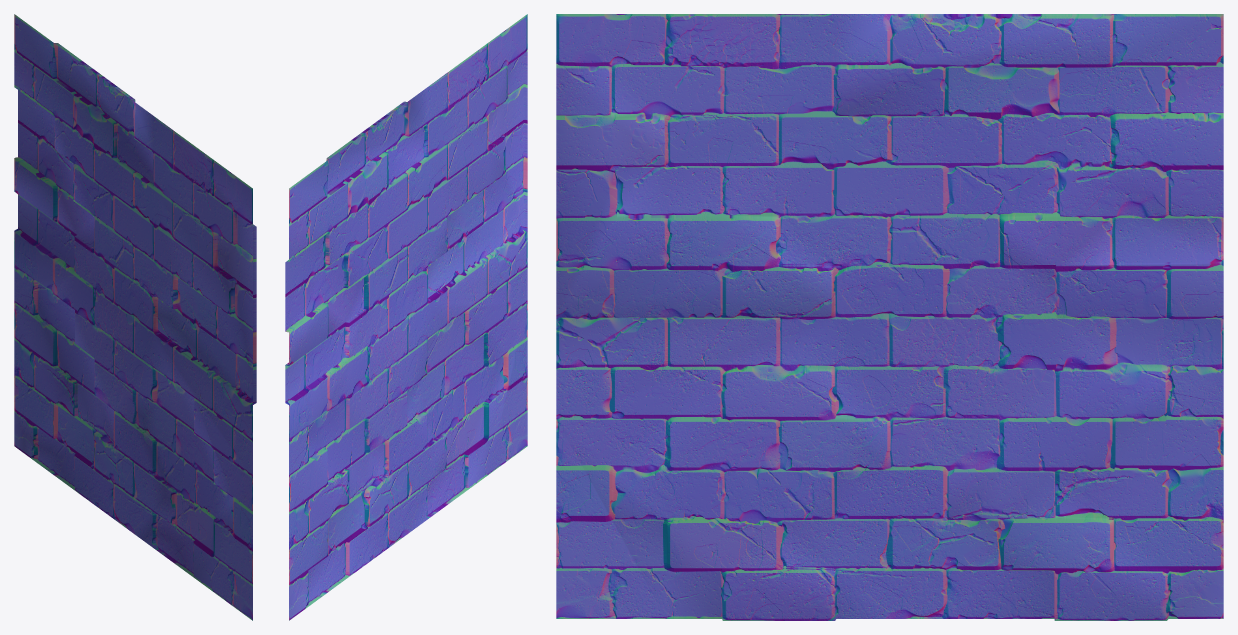
File: Dungeon_WallBricksSmall.fbx
3 views of the same model, side by side, from view 1: azimuth 30°, elevation 25°; view 2: azimuth 150°, elevation 25°; view 3: azimuth 270°, elevation 25° (orthographic). The views are drawn at different scales.
Parts seen in each view (by area): view 1: Dungeon_WallBricksSmall; view 2: Dungeon_WallBricksSmall; view 3: Dungeon_WallBricksSmall.
Part boxes in pixels (box(x1,y1,x2,y2)): Dungeon_WallBricksSmall: box(14, 14, 256, 620); Dungeon_WallBricksSmall: box(285, 14, 527, 620); Dungeon_WallBricksSmall: box(556, 14, 1223, 620).
Size of the model in its own units: 0.0343 by 4 by 4.
1 material, 1 textured.
